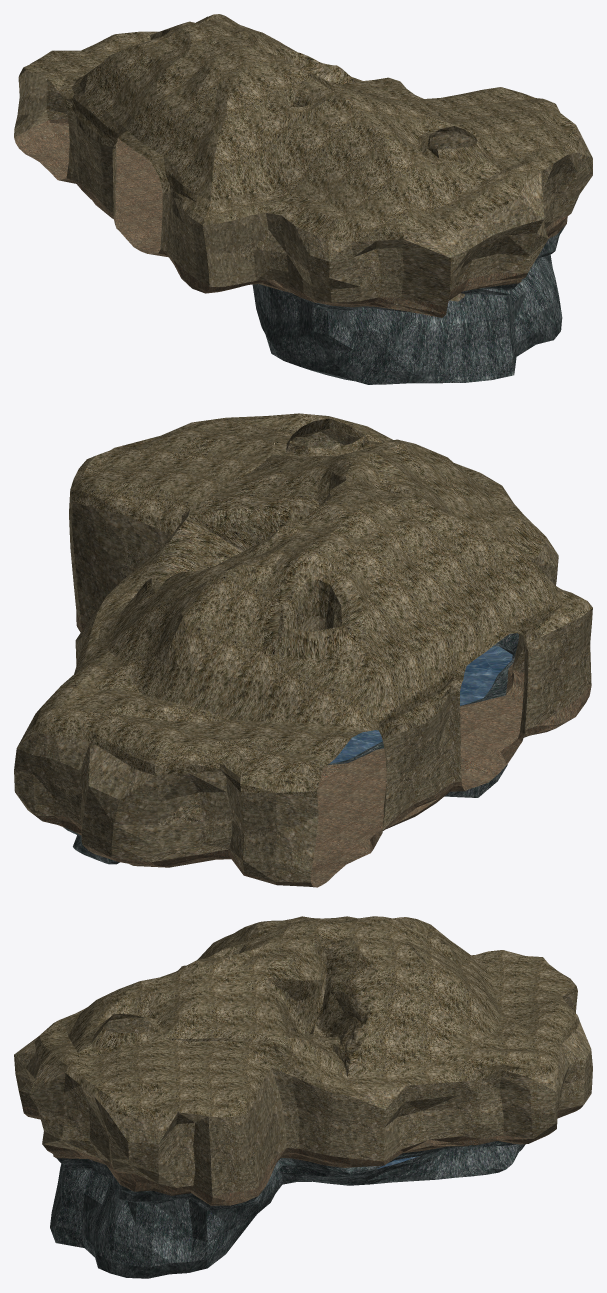
Rendered from thm_tato_fort_tusken_r5_mesh_r5.fbx.
The picture shows the model from 3 angles, top to bottom: view 1: azimuth 30°, elevation 25°; view 2: azimuth 150°, elevation 25°; view 3: azimuth 270°, elevation 25°; orthographic projection. The views are drawn at different scales.
Parts seen in each view (by area): view 1: mesh_node; view 2: mesh_node; view 3: mesh_node.
Boxes of the visible parts, <box> form: mesh_node: <box>14,14,592,384</box>; mesh_node: <box>14,413,592,887</box>; mesh_node: <box>14,916,592,1278</box>.
Bounding box in the file's own units: 31.2 × 21.6 × 43.79.
